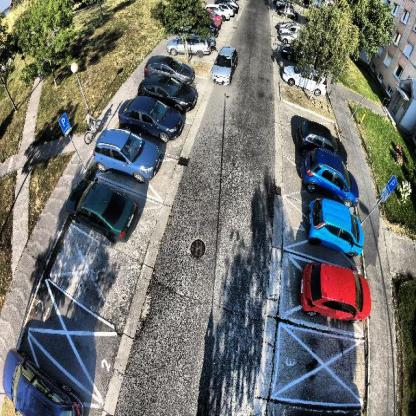free: (35, 308, 112, 378), (282, 324, 363, 385), (60, 241, 130, 302)
occupied: (298, 256, 375, 332), (67, 177, 138, 237), (92, 129, 159, 183), (300, 199, 367, 250), (303, 152, 363, 200), (118, 97, 180, 137), (137, 73, 196, 107), (297, 113, 346, 150), (143, 48, 199, 80), (282, 62, 329, 94), (212, 40, 239, 86)
